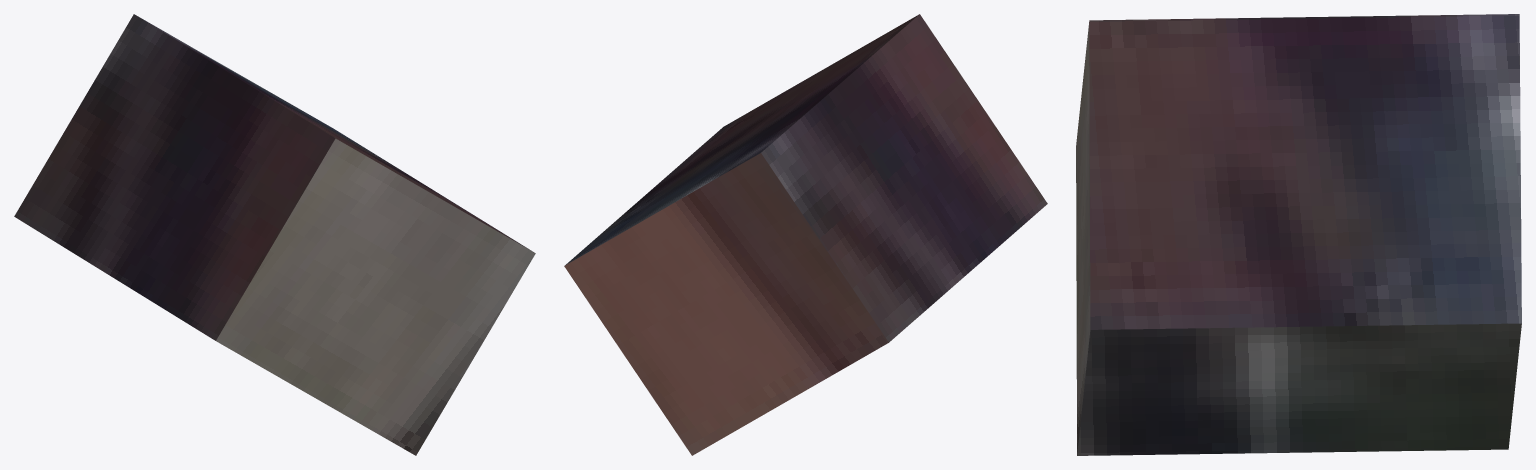
3 renders of one model, left to right at view 1: azimuth 30°, elevation 25°; view 2: azimuth 150°, elevation 25°; view 3: azimuth 270°, elevation 25°, orthographic. The views are drawn at different scales.
Parts seen in each view (by area): view 1: BAG_0599100010014580; view 2: BAG_0599100010014580; view 3: BAG_0599100010014580.
Boxes of the visible parts, left/top/right/bottom form: BAG_0599100010014580: left=14, top=14, right=535, bottom=455; BAG_0599100010014580: left=564, top=14, right=1047, bottom=455; BAG_0599100010014580: left=1076, top=14, right=1521, bottom=455.
Size of the model in its own units: 3.63 by 3.38 by 3.44.
Materials: 2 (1 with a texture image).
